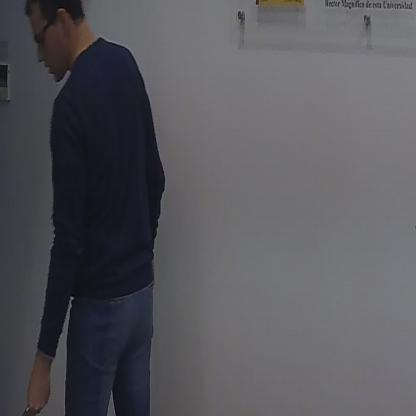knife: (0, 390, 46, 415)
